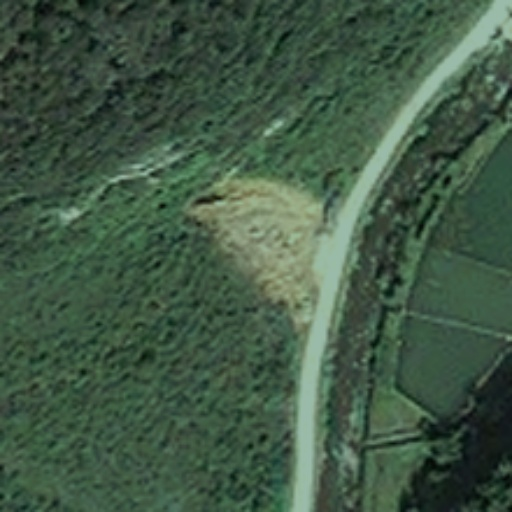landslide: (183, 176, 322, 331)
